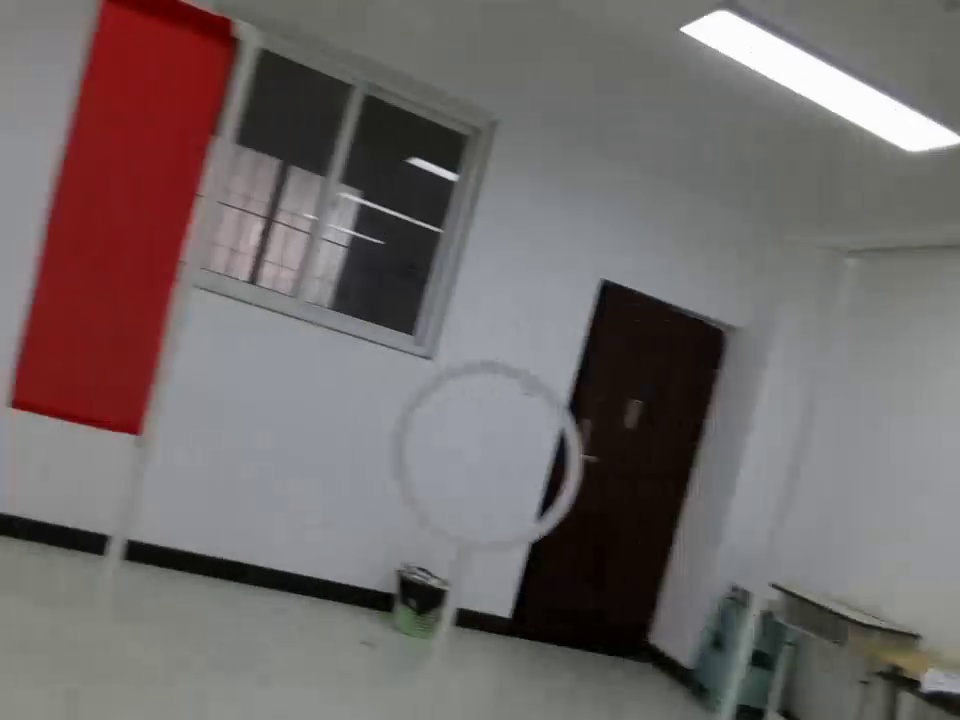qi: (1, 2, 240, 483)
quan: (385, 356, 590, 563)
